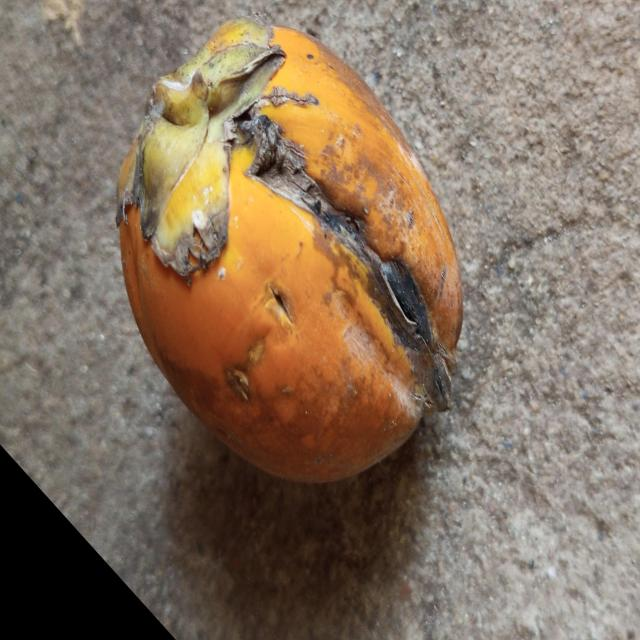damaged: (116, 18, 463, 482)
